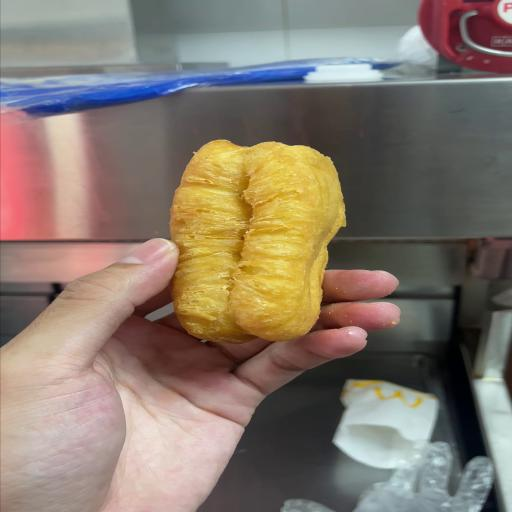brand_golden_good: (171, 141, 345, 343)
